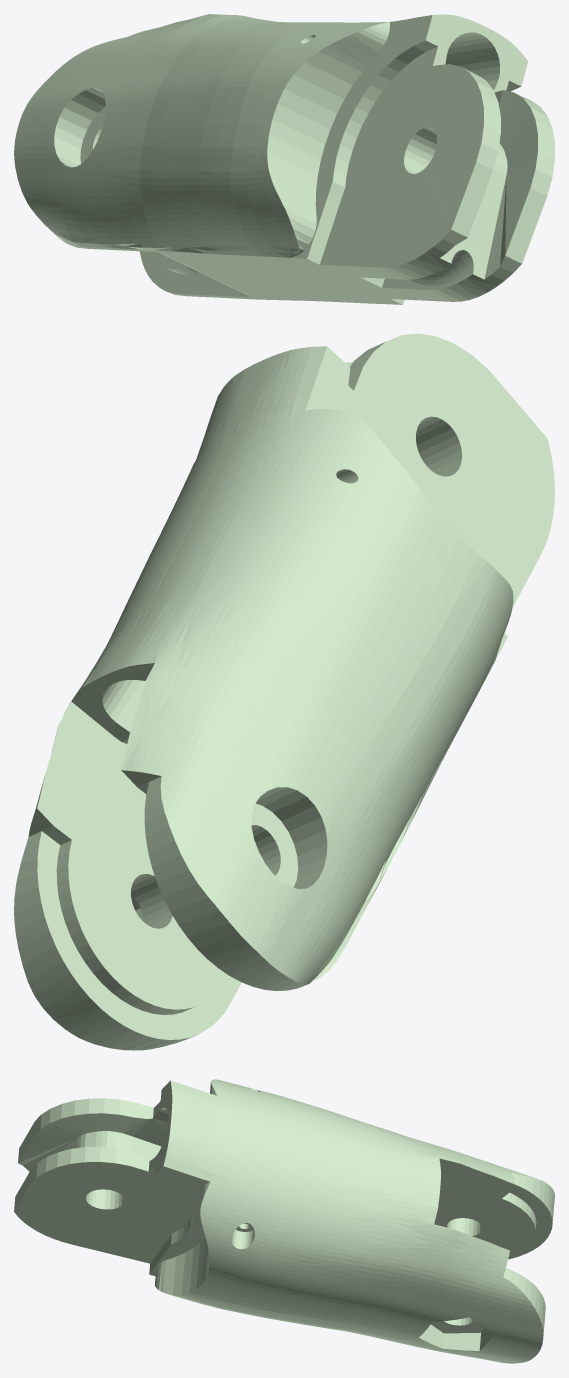
The model's file is i02_leftHand_pinkyPhal_visual.obj.full.glb.
3 renders of one model, top to bottom at view 1: azimuth 30°, elevation 25°; view 2: azimuth 150°, elevation 25°; view 3: azimuth 270°, elevation 25°, orthographic. The views are drawn at different scales.
Bounding box in the file's own units: 0.2348 × 0.3094 × 0.4963.
